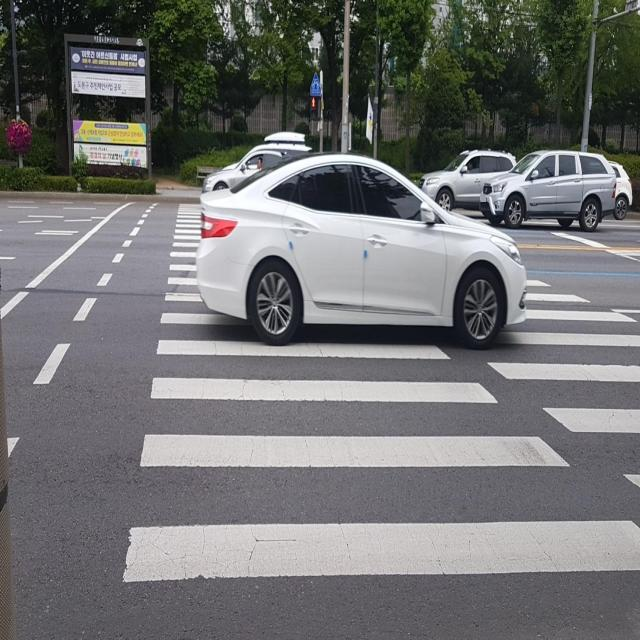빨간불: (308, 95, 318, 122)
횡단보도: (120, 199, 640, 588)
